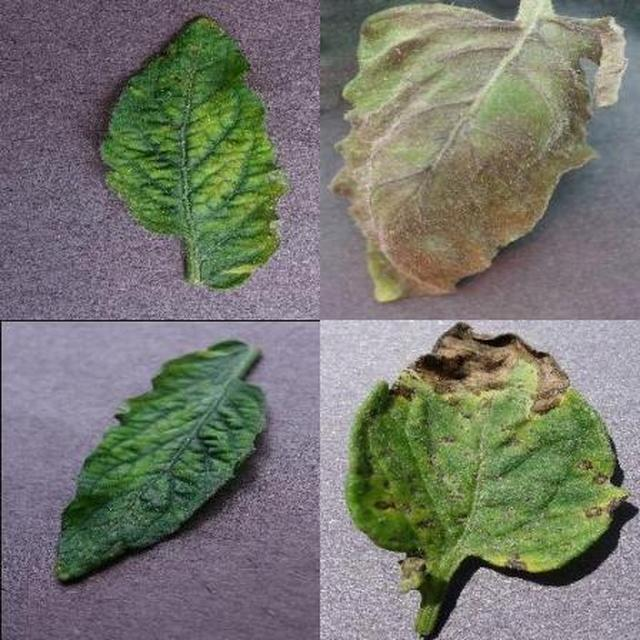Mosaic Virus Leaf: (229, 215, 640, 640)
